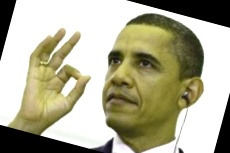earphone: (173, 73, 207, 113)
